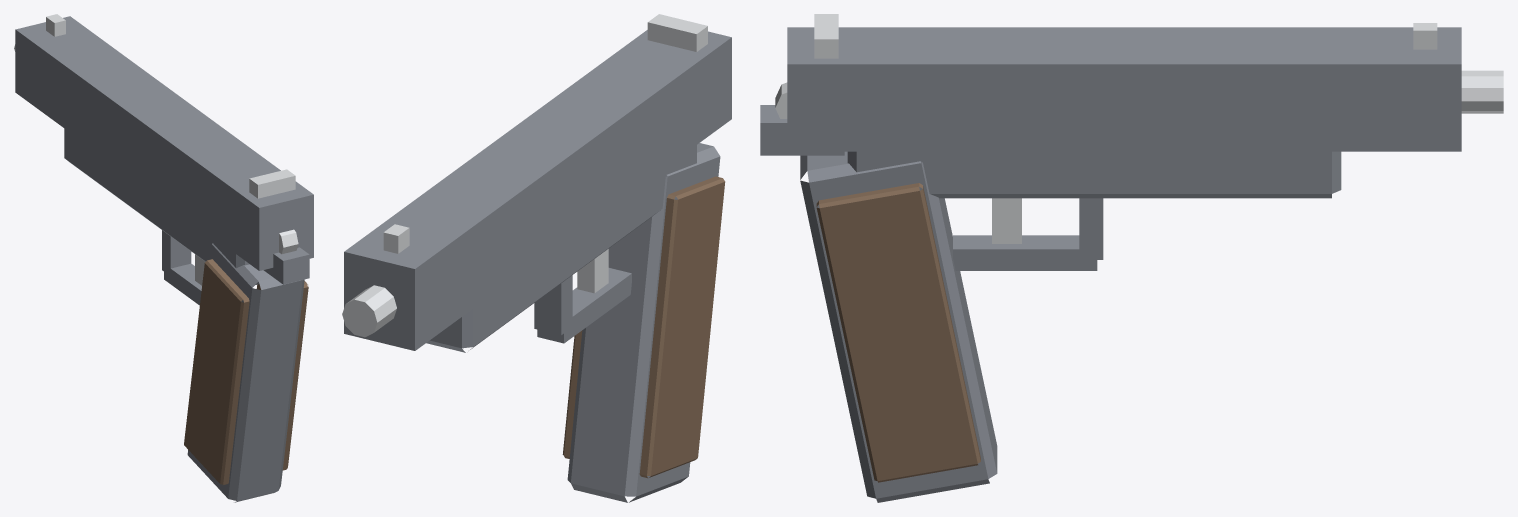
Rendered from service_pistol.glb.
3 renders of one model, left to right at view 1: azimuth 30°, elevation 25°; view 2: azimuth 150°, elevation 25°; view 3: azimuth 270°, elevation 25°, orthographic. The views are drawn at different scales.
Visible parts, largest first — view 1: ServiceFrame, GripScales, HammerAndBarrel; view 2: ServiceFrame, GripScales, HammerAndBarrel; view 3: ServiceFrame, GripScales, HammerAndBarrel.
Part boxes in pixels (x1,y1,x2,y2): ServiceFrame: [15, 16, 313, 502]; GripScales: [184, 259, 308, 484]; HammerAndBarrel: [14, 14, 298, 285]; ServiceFrame: [344, 30, 731, 502]; GripScales: [562, 176, 725, 478]; HammerAndBarrel: [342, 14, 707, 337]; ServiceFrame: [760, 27, 1461, 502]; GripScales: [816, 183, 980, 482]; HammerAndBarrel: [775, 14, 1503, 243].
Size of the model in its own units: 0.036 by 0.1695 by 0.247.
